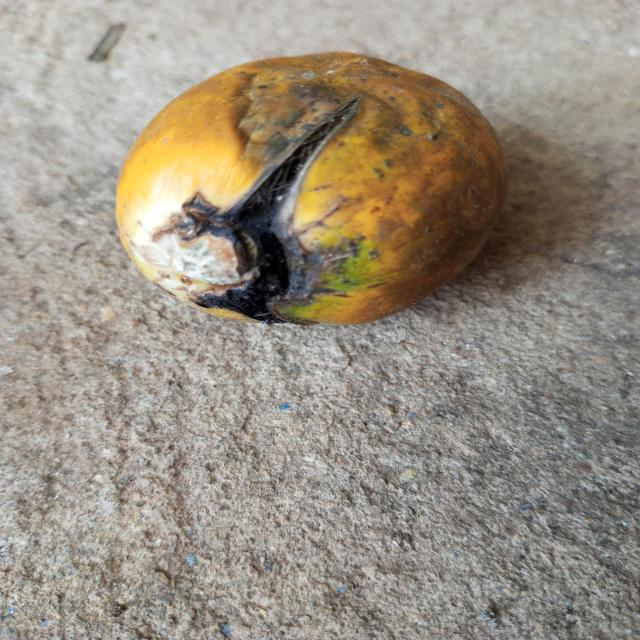damaged: (116, 53, 507, 324)
